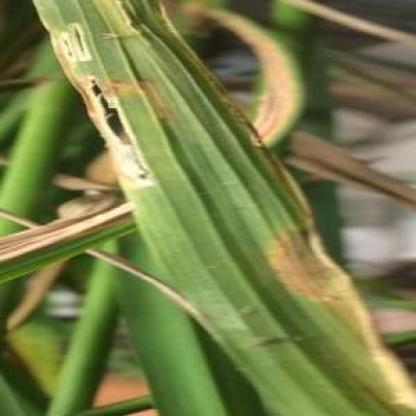Blight: (26, 2, 416, 416)
